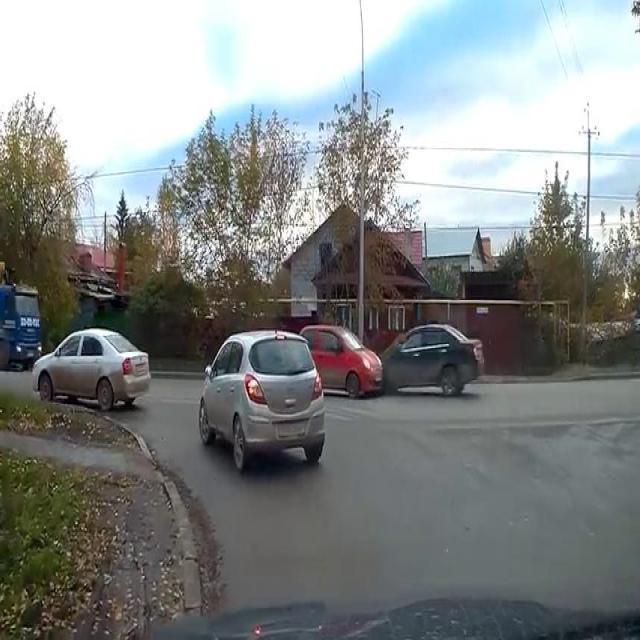multiple_accident: (330, 301, 440, 426)
